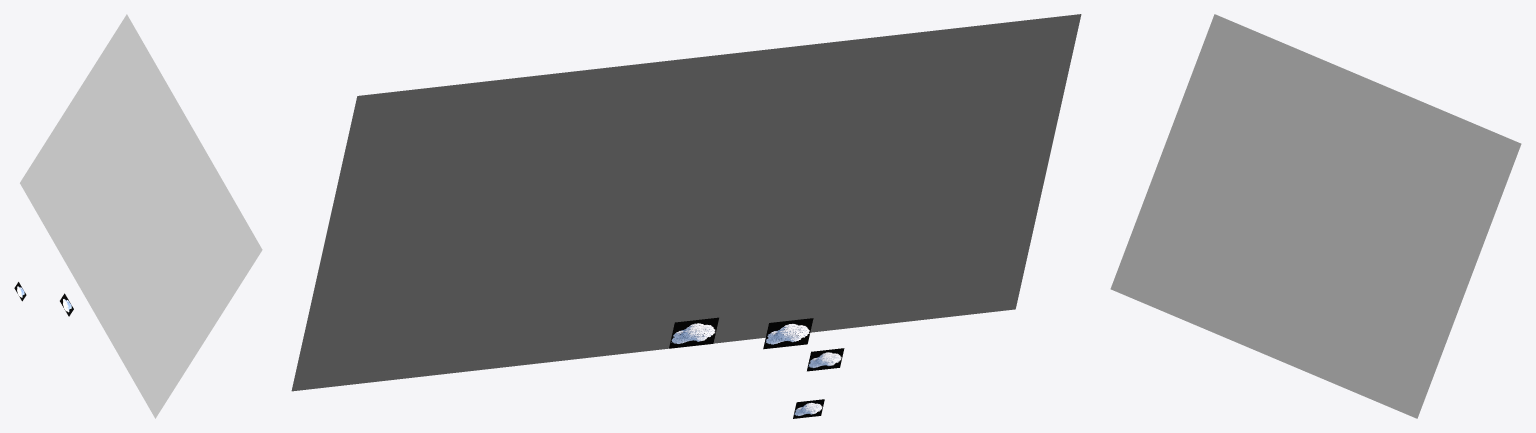
File: leaves.glb
The picture shows the model from 3 angles, left to right: view 1: azimuth 30°, elevation 25°; view 2: azimuth 150°, elevation 25°; view 3: azimuth 270°, elevation 25°; orthographic projection. The views are drawn at different scales.
Parts seen in each view (by area): view 1: Clouds; view 2: Clouds, Four, Three; view 3: Clouds.
Boxes of the visible parts, bbox=[...] form: Clouds: bbox=[20, 14, 262, 418]; Clouds: bbox=[291, 14, 1081, 391]; Four: bbox=[669, 317, 718, 348]; Three: bbox=[763, 318, 813, 349]; Clouds: bbox=[1110, 14, 1521, 418].
Size of the model in its own units: 135 by 83.82 by 135.
1 material, 1 textured.
